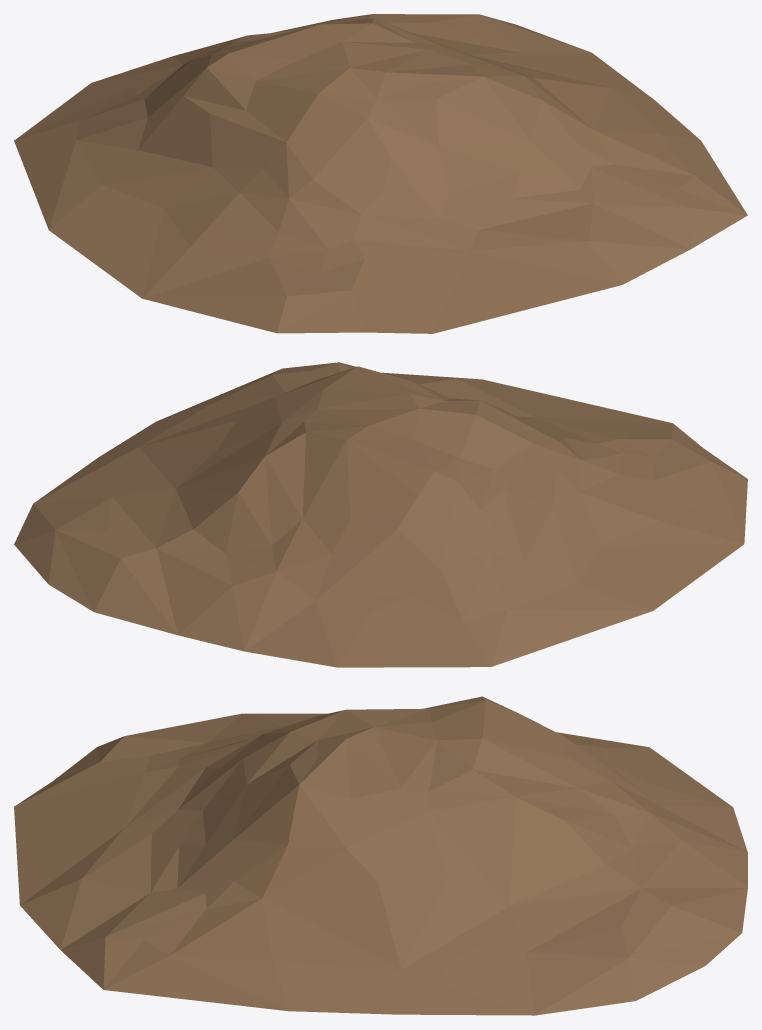
The model's file is SM_Env_Dirt_Round_02.glb.
The picture shows the model from 3 angles, top to bottom: view 1: azimuth 30°, elevation 25°; view 2: azimuth 150°, elevation 25°; view 3: azimuth 270°, elevation 25°; orthographic projection. The views are drawn at different scales.
Parts seen in each view (by area): view 1: SM_Env_Dirt_Round_02; view 2: SM_Env_Dirt_Round_02; view 3: SM_Env_Dirt_Round_02.
Boxes of the visible parts, <box> form: SM_Env_Dirt_Round_02: <box>14,14,747,333</box>; SM_Env_Dirt_Round_02: <box>14,362,747,667</box>; SM_Env_Dirt_Round_02: <box>14,696,747,1015</box>.
Bounding box in the file's own units: 5.12 × 0.9883 × 5.26.
Materials: 1 (1 with a texture image).
